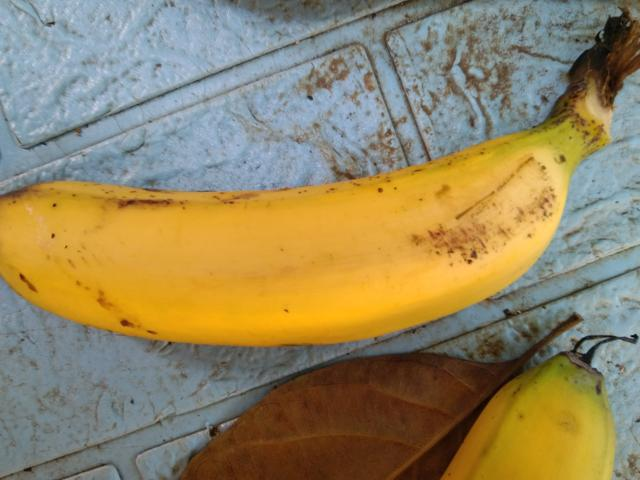ripe: (0, 86, 604, 390)
